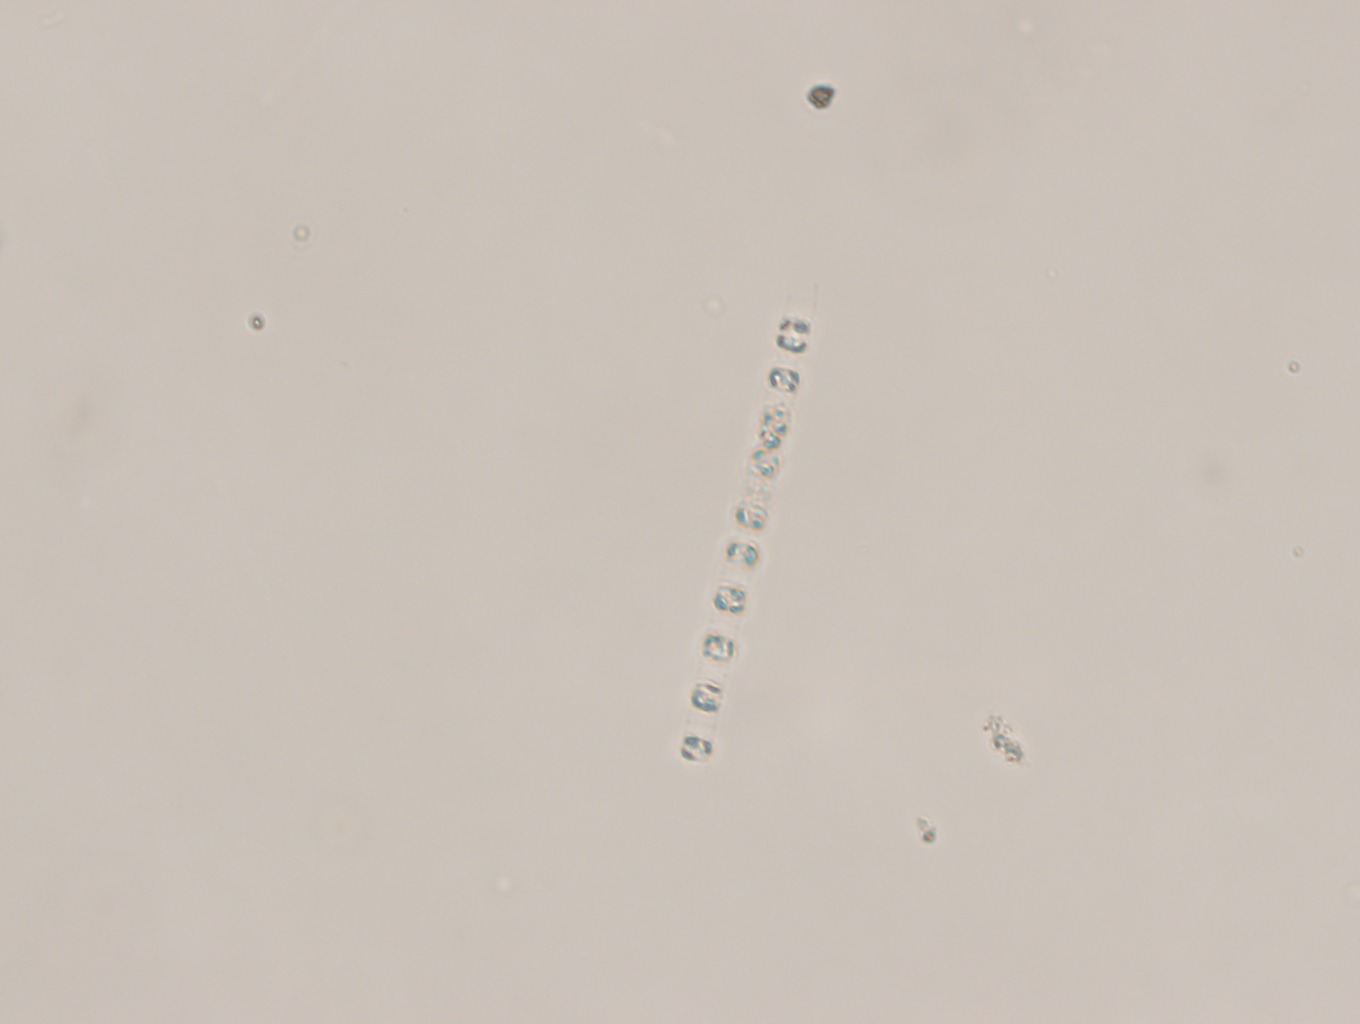skeletonema: (679, 281, 819, 768)
